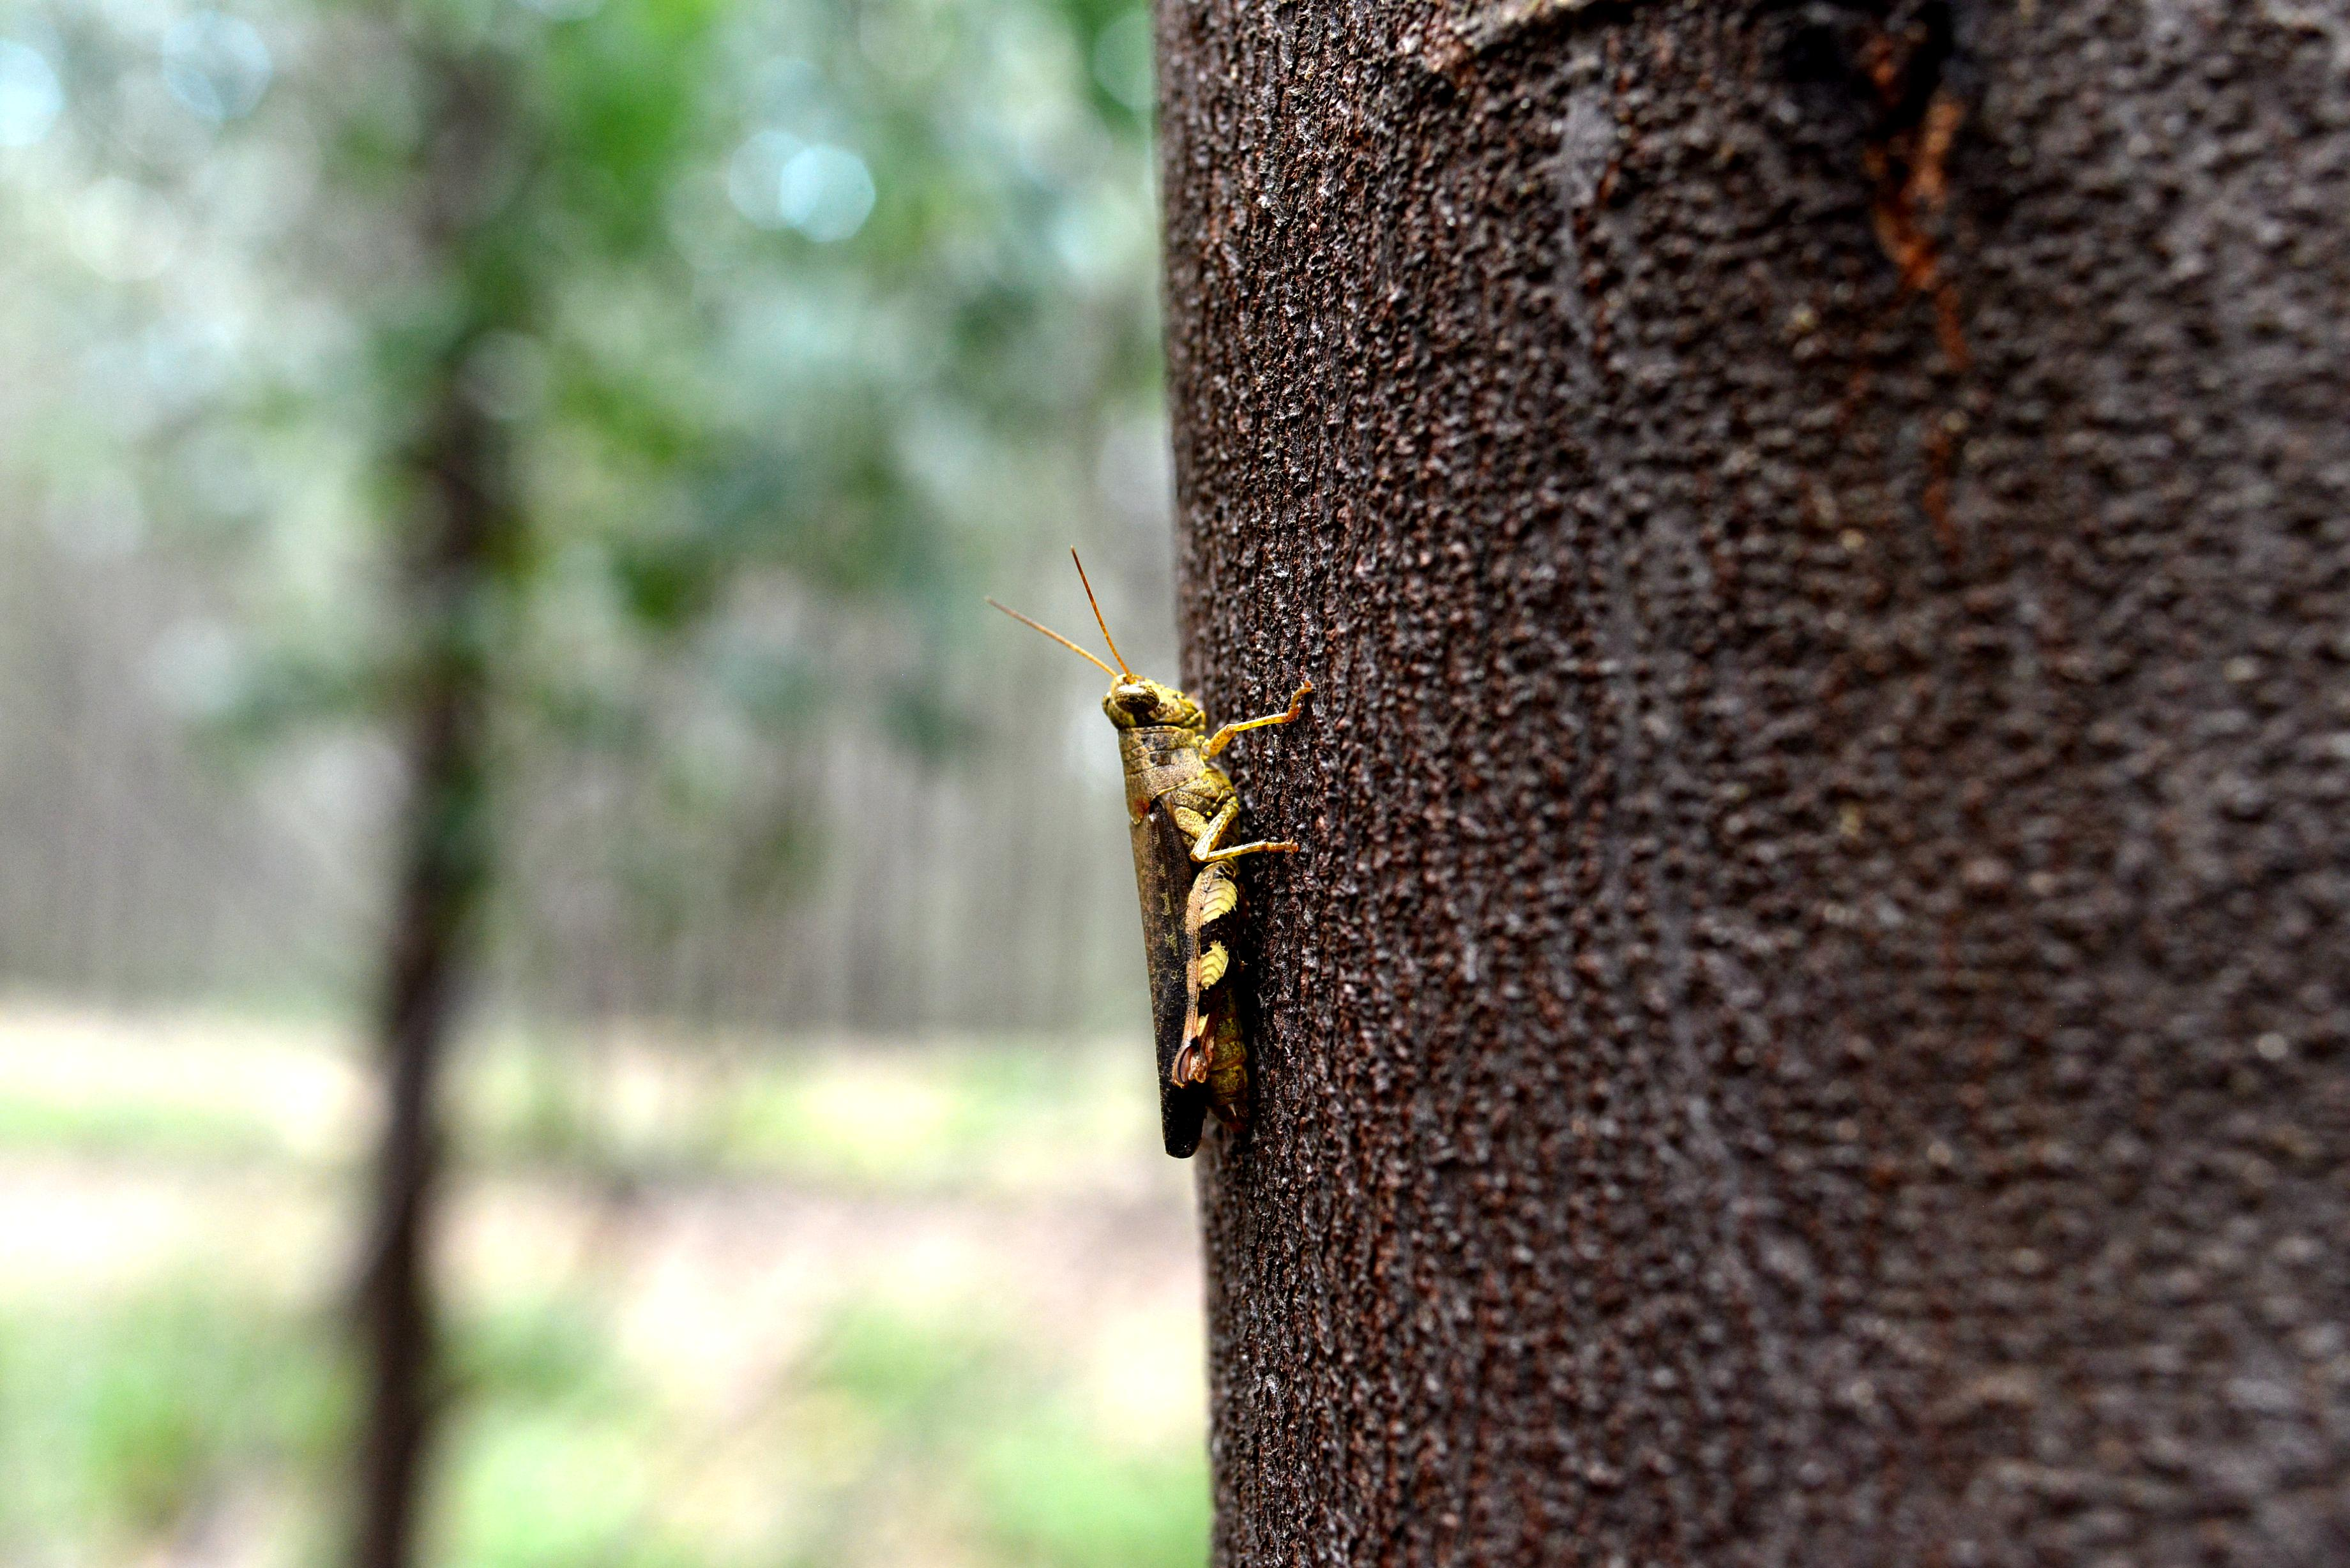Stem Borer: (1746, 0, 2068, 441)
